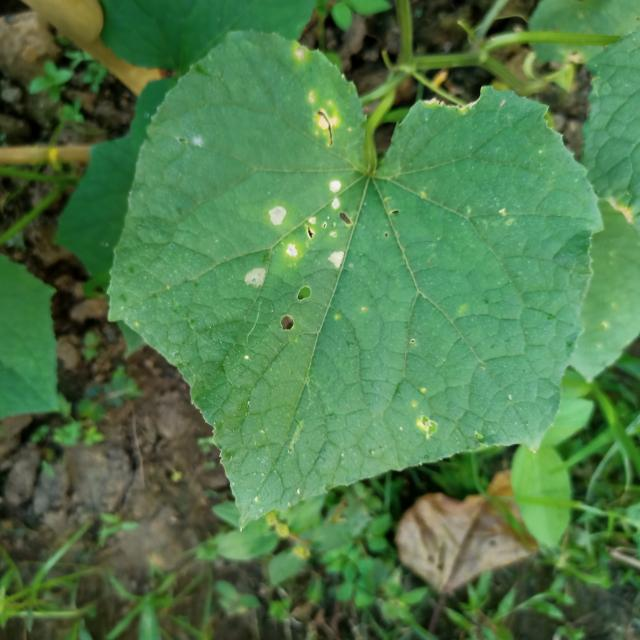disease_cucumber: (234, 166, 362, 295)
